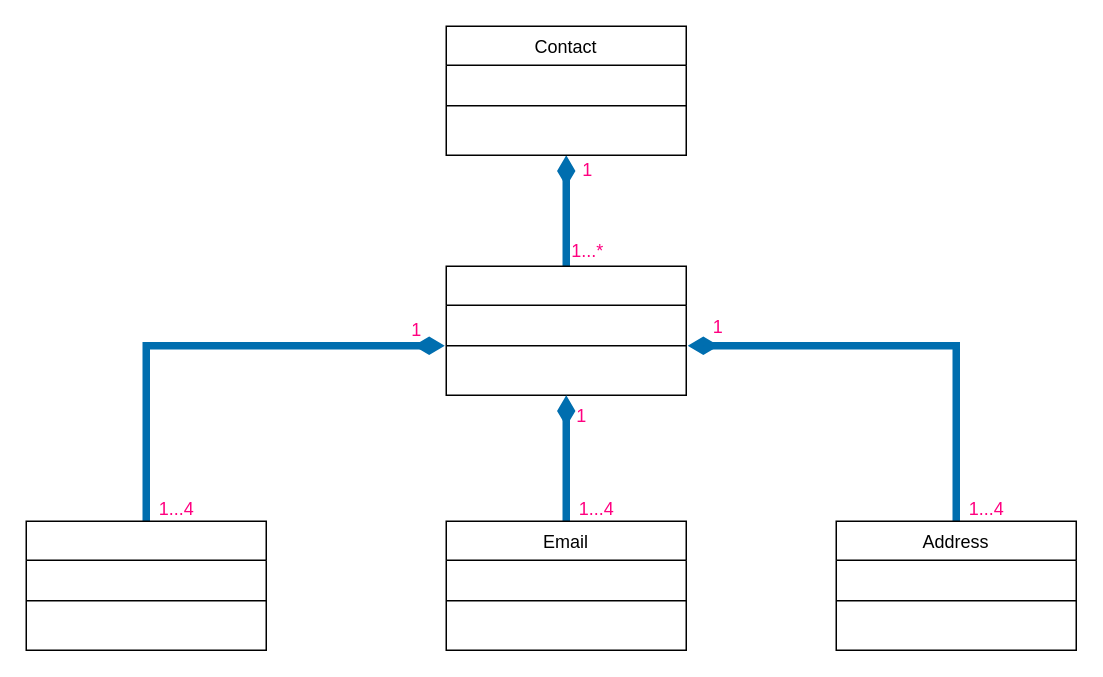
The diagram is 1103 pixels wide and 677 high, and some of its shapes have lost their labels. Here are the shapes that lost their labels. From the top down, the centre of each, then its label:
At pixel 565 330: "User".
At pixel 145 585: "Phone".
